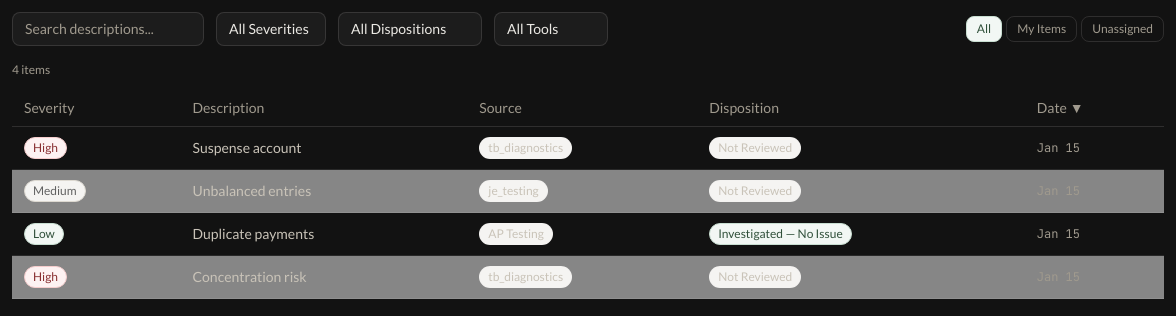
Test: FollowUpItemsTable › filters by assignment (My Items)
Step 1. Click the button "My Items" → coordinates (1042, 29), box [1006, 16, 1077, 42]
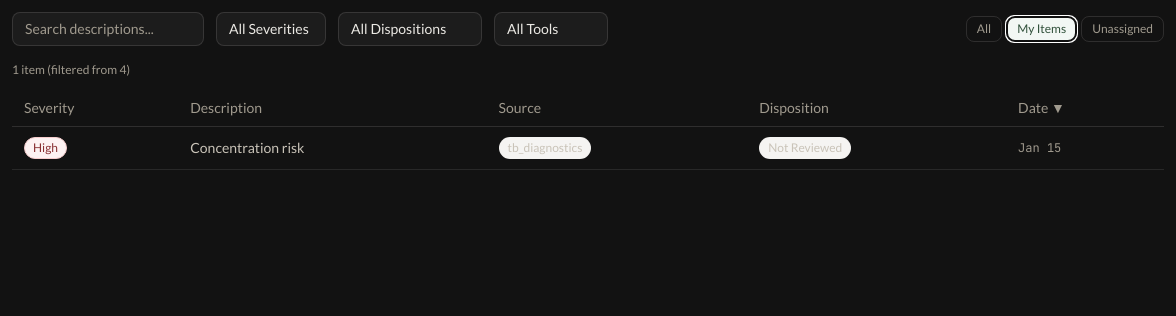
Expected: the text "Concentration risk" is shown, [190, 139, 304, 156]
Expected: the text "Suspense account" is gone
